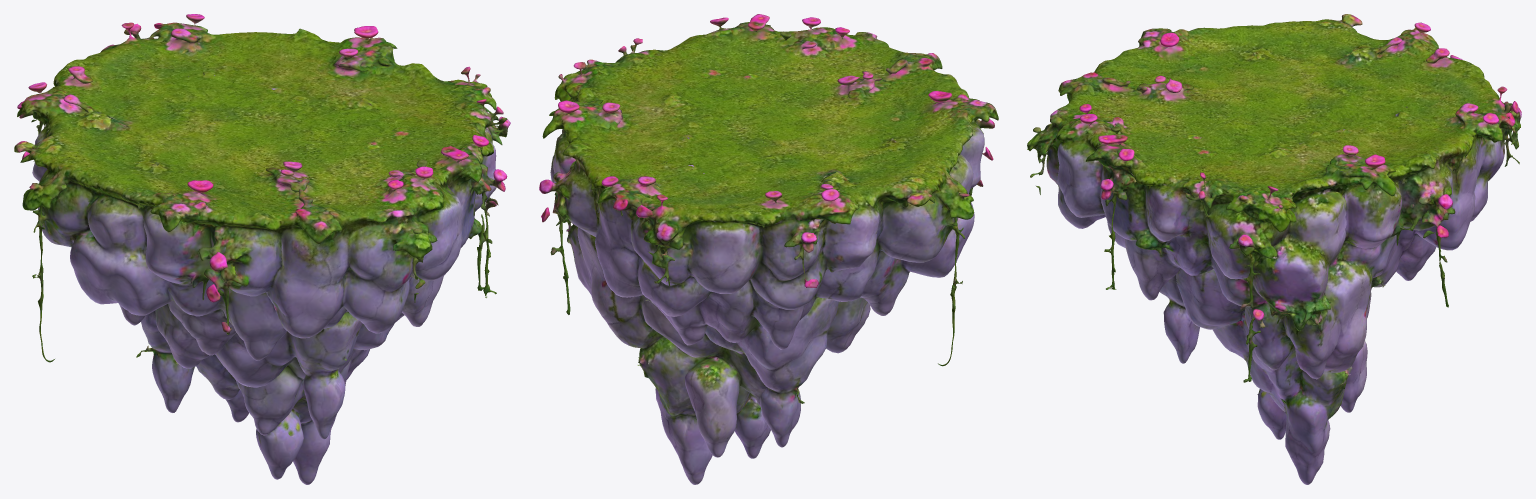
The picture shows the model from 3 angles, left to right: view 1: azimuth 30°, elevation 25°; view 2: azimuth 150°, elevation 25°; view 3: azimuth 270°, elevation 25°; orthographic projection. The views are drawn at different scales.
Visible parts, largest first — view 1: tripo_node_d31cb692-9809-47df-958a-d8792e520836; view 2: tripo_node_d31cb692-9809-47df-958a-d8792e520836; view 3: tripo_node_d31cb692-9809-47df-958a-d8792e520836.
Boxes of the visible parts, x1=… form: tripo_node_d31cb692-9809-47df-958a-d8792e520836: x1=14, y1=14, x2=510, y2=484; tripo_node_d31cb692-9809-47df-958a-d8792e520836: x1=539, y1=14, x2=998, y2=484; tripo_node_d31cb692-9809-47df-958a-d8792e520836: x1=1027, y1=14, x2=1521, y2=484.
Size of the model in its own units: 0.9372 by 0.7935 by 0.9648.
1 material, 1 textured.
